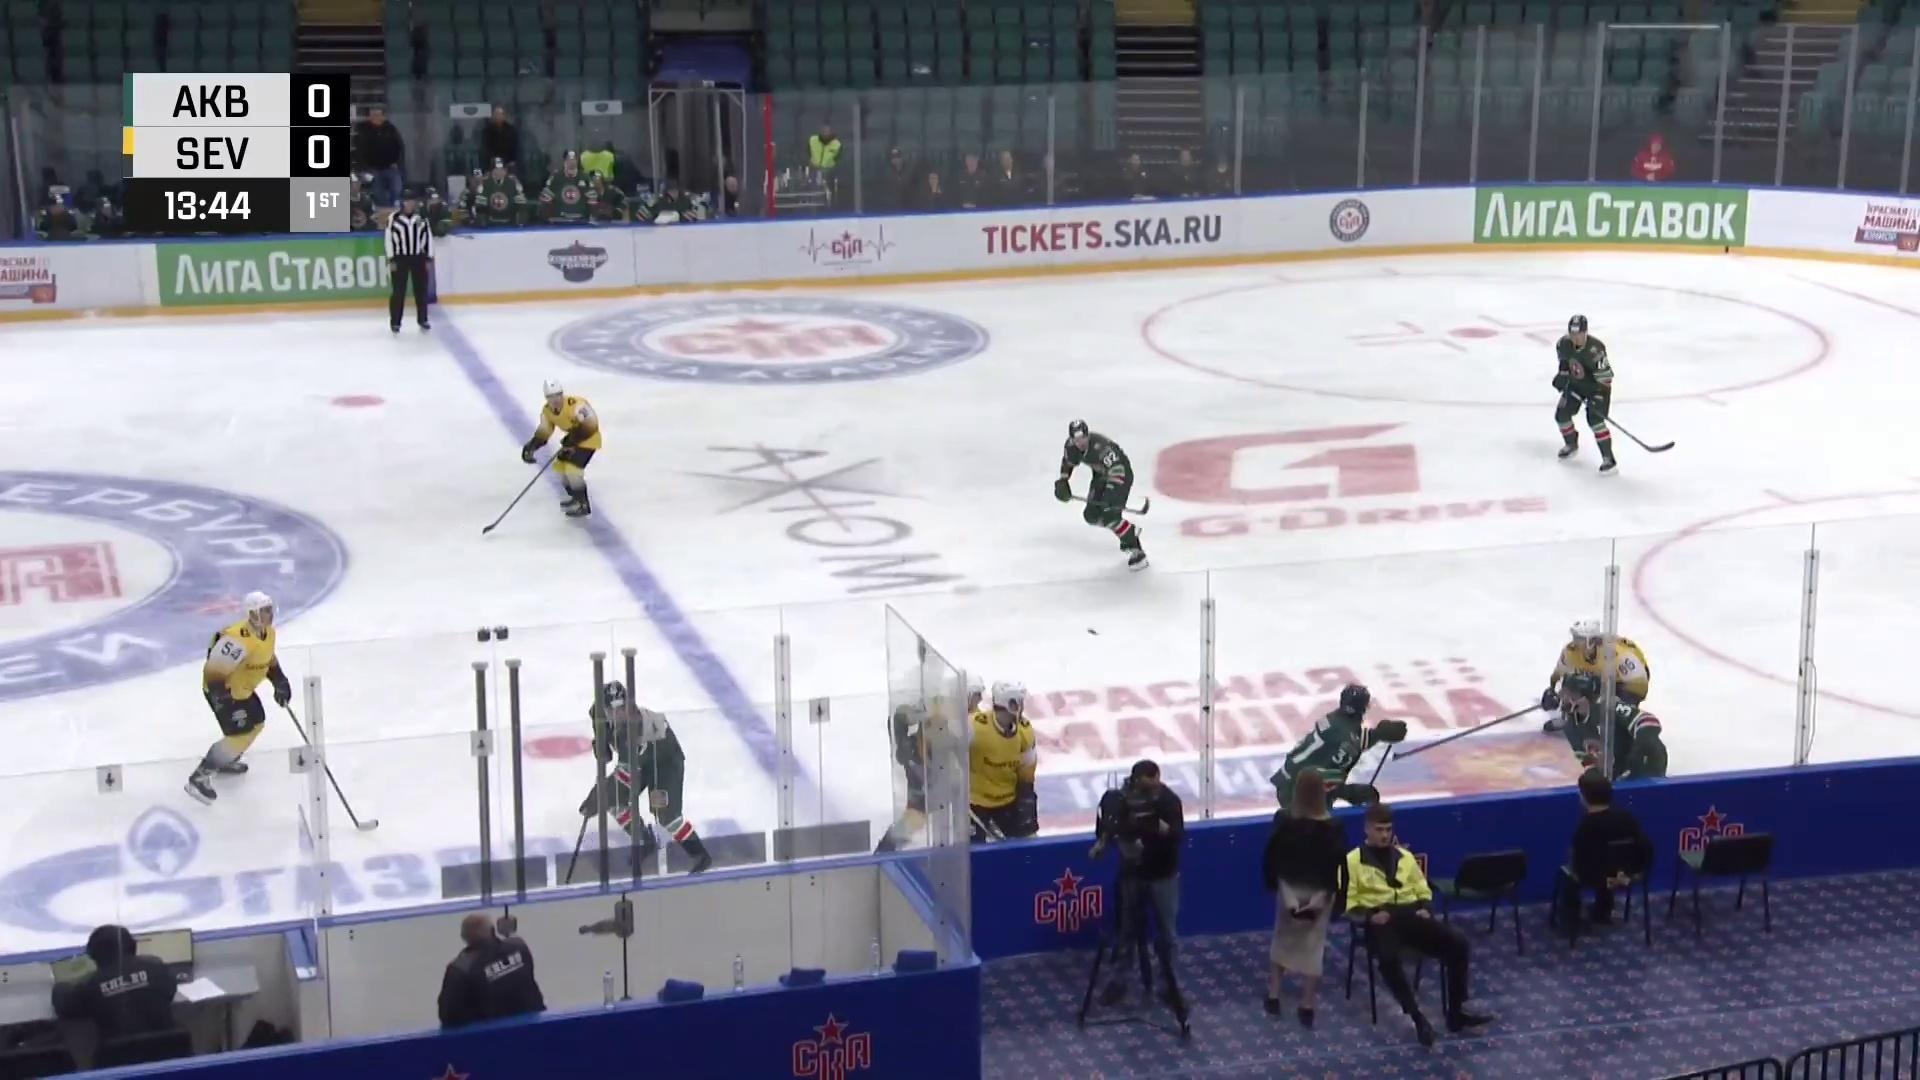ball: (1087, 626, 1098, 637)
